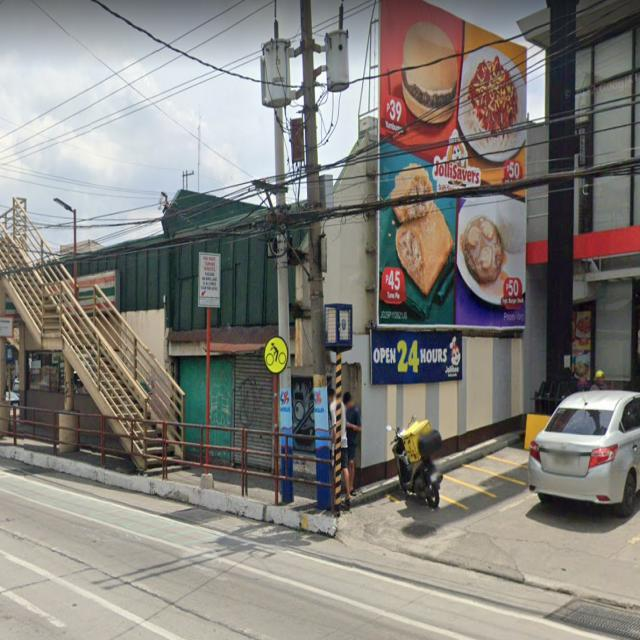bike lane: (262, 334, 292, 375)
